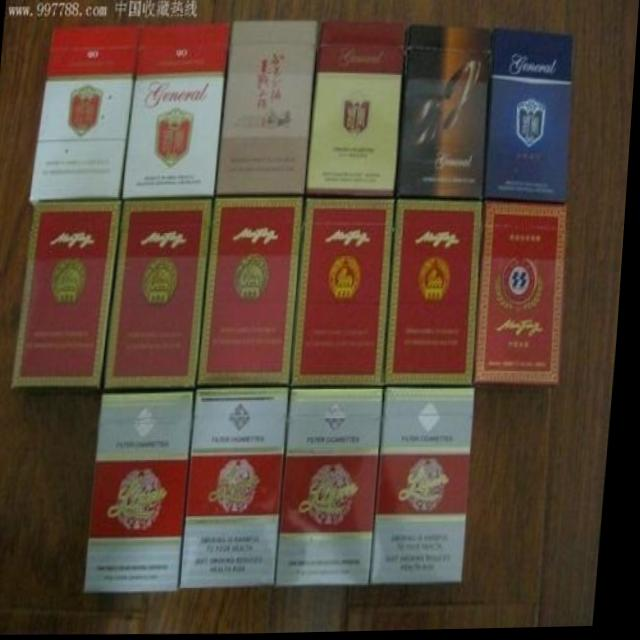box: (188, 387, 294, 590), (91, 392, 198, 592), (284, 389, 388, 587), (16, 201, 124, 387), (379, 389, 480, 585), (110, 201, 213, 389), (203, 197, 305, 384), (30, 25, 139, 199), (123, 23, 230, 199), (297, 199, 397, 387), (218, 22, 317, 196), (390, 201, 483, 385), (479, 203, 569, 389), (309, 22, 405, 196), (400, 27, 492, 199), (488, 29, 572, 203)
